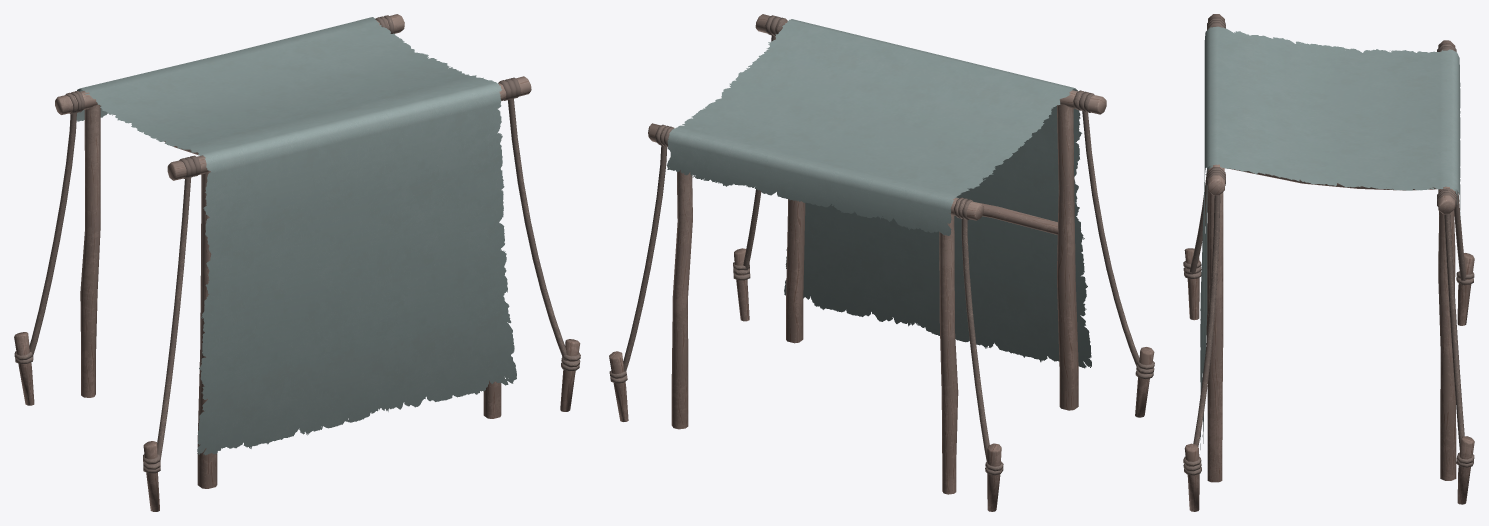
The picture shows the model from 3 angles, left to right: view 1: azimuth 30°, elevation 25°; view 2: azimuth 150°, elevation 25°; view 3: azimuth 270°, elevation 25°; orthographic projection. The views are drawn at different scales.
Parts seen in each view (by area): view 1: submesh_0; view 2: submesh_0; view 3: submesh_0.
Boxes of the visible parts, x1,y1,x2,y2 form: submesh_0: (14,14,580,511); submesh_0: (609,14,1154,511); submesh_0: (1183,14,1474,511).
Size of the model in its own units: 3.97 by 2.89 by 2.4.
Materials: 1 (1 with a texture image).
